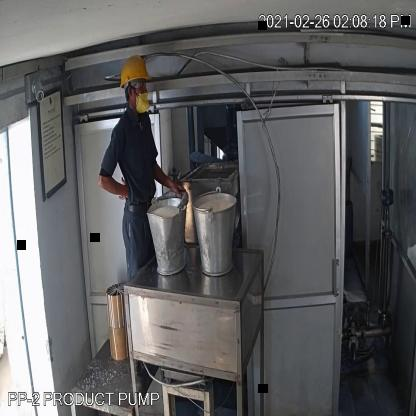helmet: (116, 46, 154, 94)
